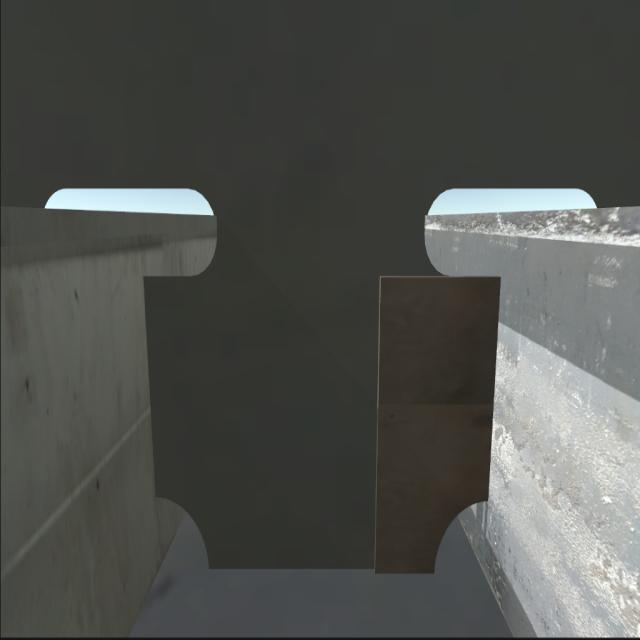fillet_hole: (428, 490, 491, 578), (159, 501, 205, 574)
fillet_yong_jeop_jang: (201, 561, 435, 580)
longi_yong_jeop_jang: (484, 263, 504, 501), (143, 266, 163, 502)
plate_CP01: (379, 280, 493, 575)
